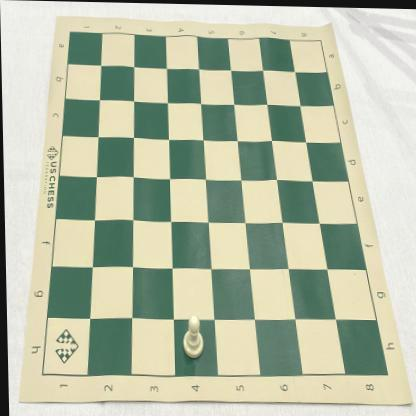white-pawn: (181, 312, 203, 358)
